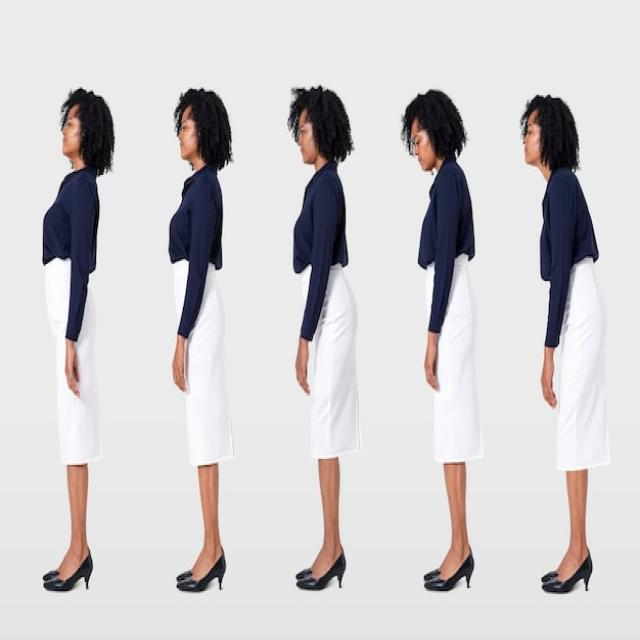Person: (520, 95, 600, 594), (400, 90, 474, 592), (42, 89, 114, 594), (287, 85, 358, 590), (168, 87, 235, 592)
